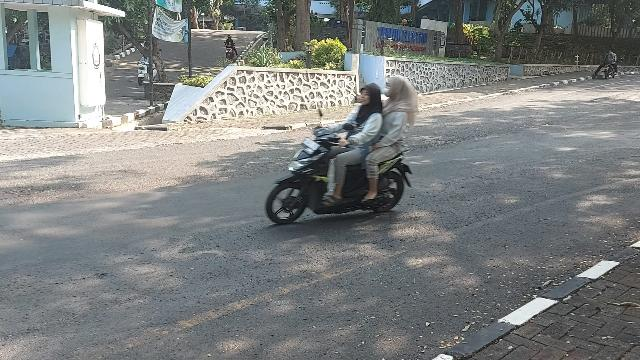motor: (267, 110, 414, 225)
non-helm: (385, 76, 412, 98), (362, 84, 381, 106)
